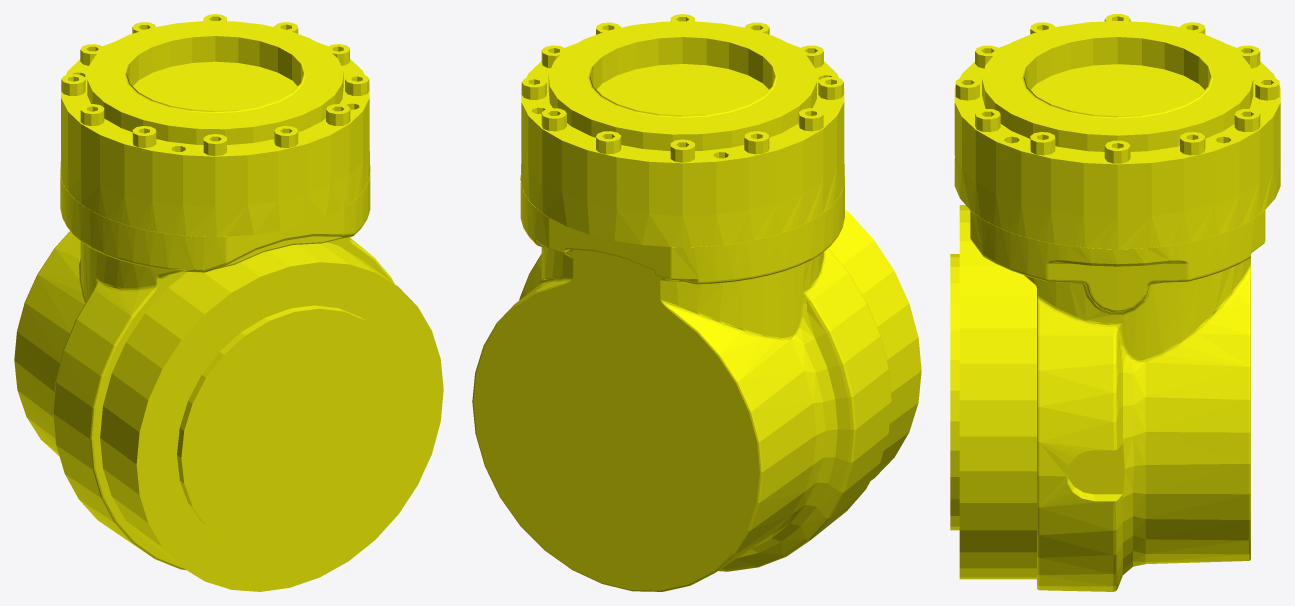
The picture shows the model from 3 angles, left to right: view 1: azimuth 30°, elevation 25°; view 2: azimuth 150°, elevation 25°; view 3: azimuth 270°, elevation 25°; orthographic projection. The views are drawn at different scales.
Parts seen in each view (by area): view 1: node; view 2: node; view 3: node.
Boxes of the visible parts, x1,y1,x2,y2 form: node: [14, 14, 443, 591]; node: [472, 14, 921, 591]; node: [950, 14, 1280, 591].
Bounding box in the file's own units: 85.19 × 117 × 70.56.
